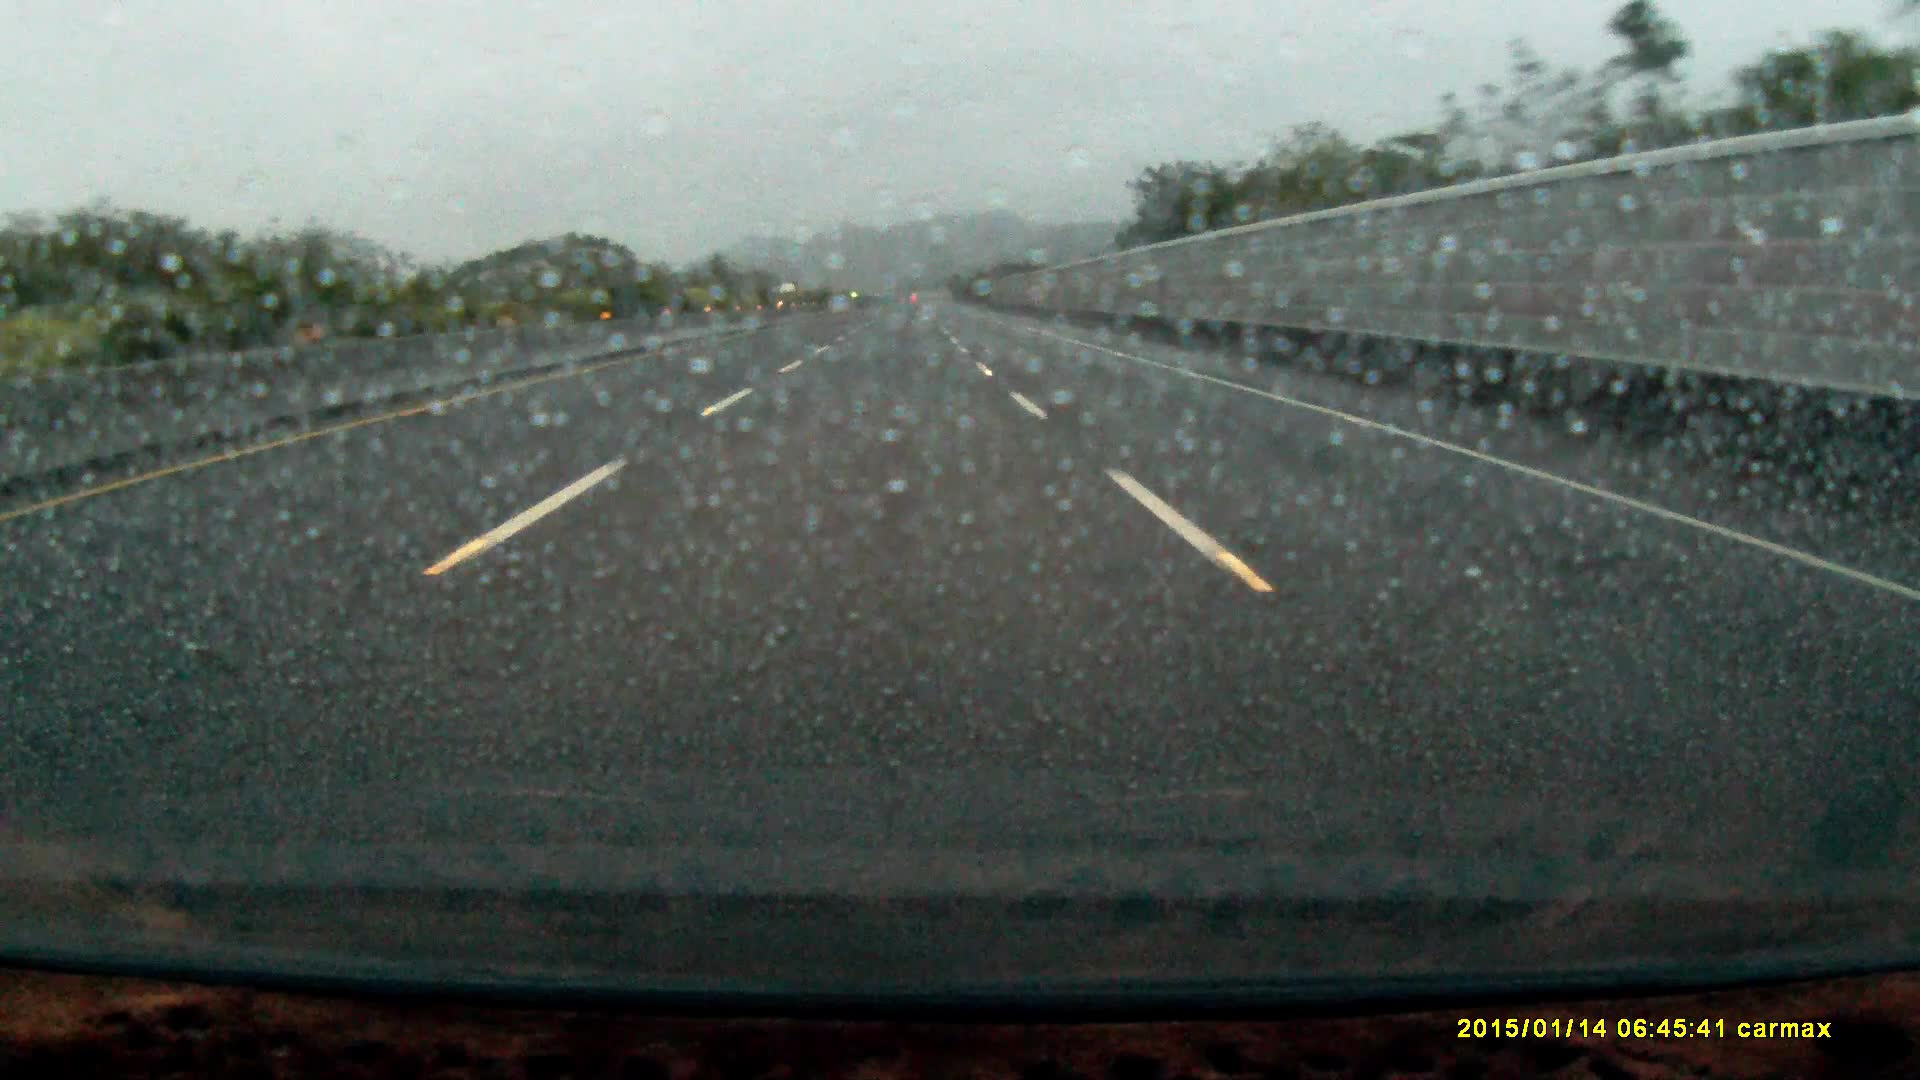vehicle: (779, 281, 804, 307)
